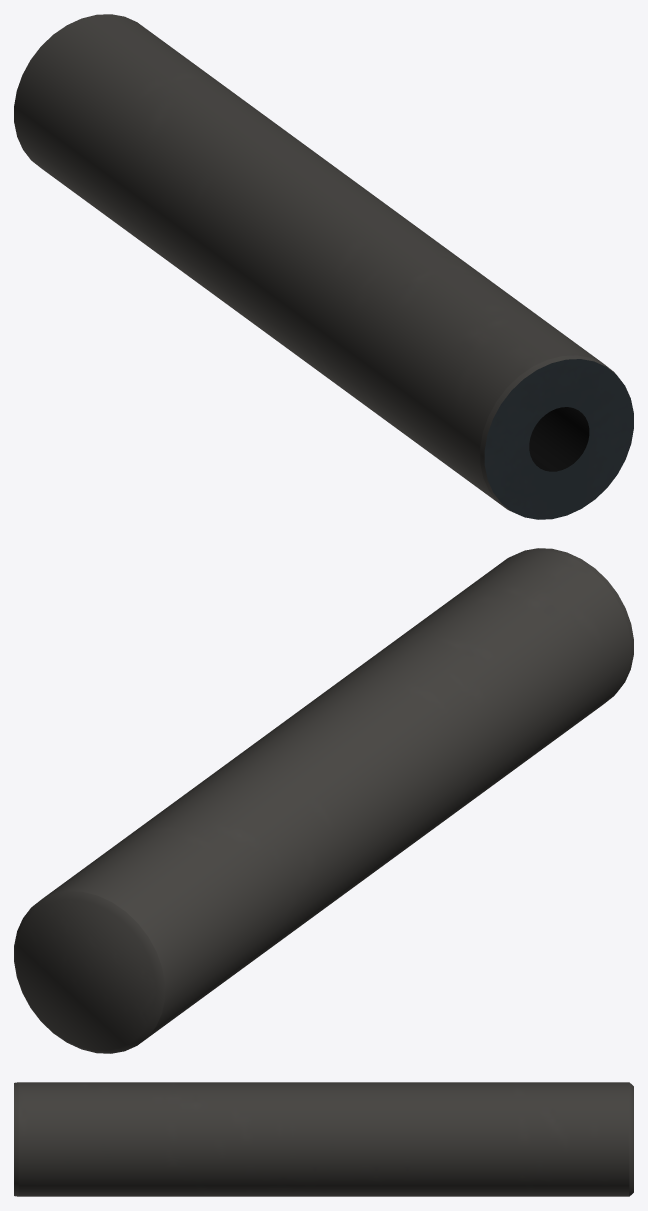
Rendered from G17_Silencer.fbx.
3 renders of one model, top to bottom at view 1: azimuth 30°, elevation 25°; view 2: azimuth 150°, elevation 25°; view 3: azimuth 270°, elevation 25°, orthographic. The views are drawn at different scales.
Visible parts, largest first — view 1: G17_SILENCER; view 2: G17_SILENCER; view 3: G17_SILENCER.
Part boxes in pixels (<box>): G17_SILENCER: <box>14,14,633,519</box>; G17_SILENCER: <box>14,548,633,1053</box>; G17_SILENCER: <box>14,1082,633,1196</box>.
Bounding box in the file's own units: 2.15 × 2.15 × 11.68.
